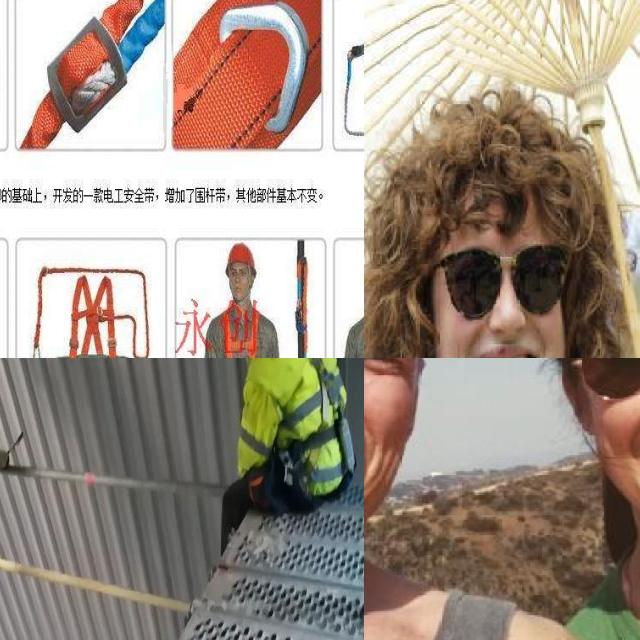Harness: (31, 262, 153, 358), (279, 358, 357, 490), (204, 299, 270, 358)
face_nomask: (439, 246, 560, 358)
glasses: (420, 247, 570, 325)
head_helmet: (364, 358, 535, 640)
head_nohelmet: (382, 111, 630, 244)
